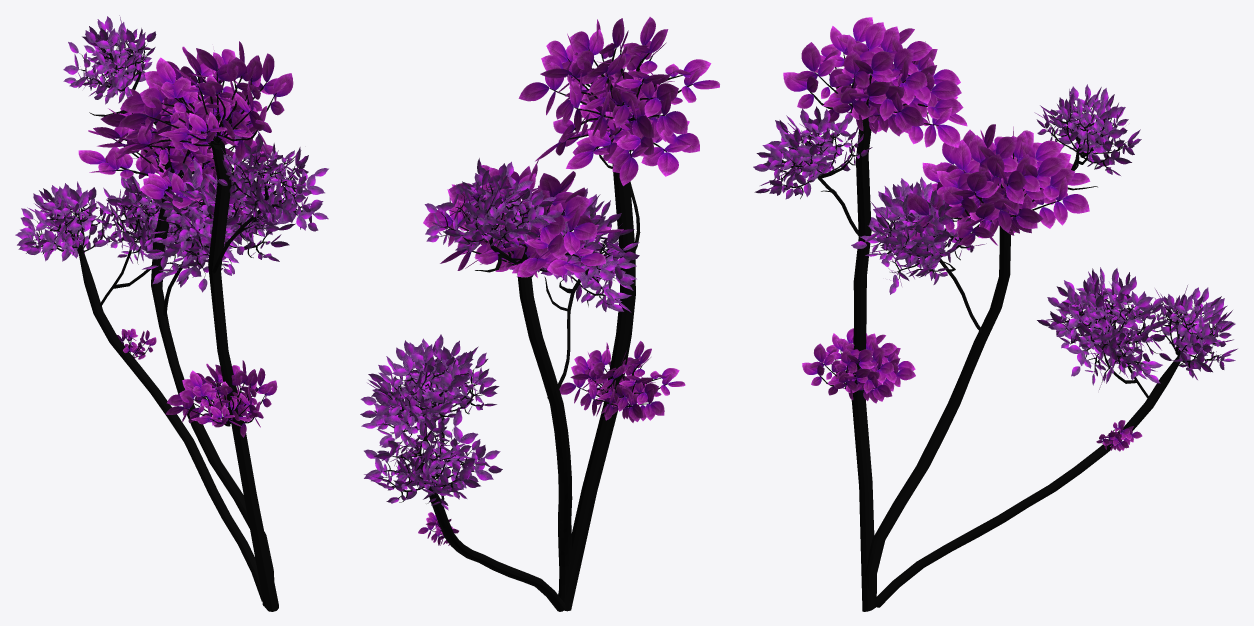
Rendered from purpletree13.fbx.
3 renders of one model, left to right at view 1: azimuth 30°, elevation 25°; view 2: azimuth 150°, elevation 25°; view 3: azimuth 270°, elevation 25°, orthographic. The views are drawn at different scales.
Parts seen in each view (by area): view 1: pCylinder1069; view 2: pCylinder1069; view 3: pCylinder1069.
Boxes of the visible parts, x1,y1,x2,y2 form: pCylinder1069: [15, 15, 328, 611]; pCylinder1069: [360, 17, 719, 611]; pCylinder1069: [753, 17, 1237, 611].
Size of the model in its own units: 21.76 by 57.63 by 45.48.
